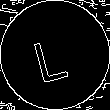L_N: (33, 27, 77, 83)
